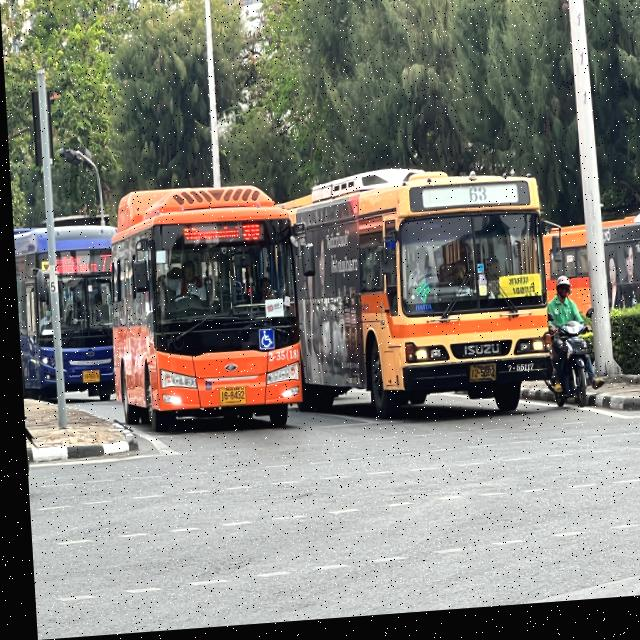BMTA-bus: (283, 160, 552, 434)
Bus-Line-Number: (462, 191, 488, 213), (237, 225, 261, 246), (94, 251, 110, 276)
Destination-Sign-Normal: (53, 251, 95, 278)
Destination-Sign-Normal-Expressway: (494, 282, 538, 307)
TSB-Bus: (103, 179, 299, 441), (10, 216, 112, 406)
